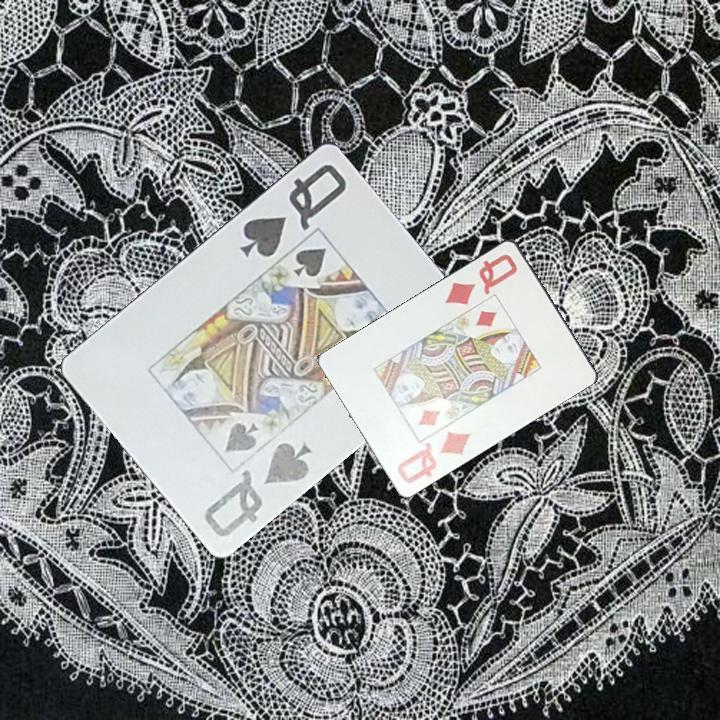Qd: (394, 427, 473, 486), (442, 250, 520, 308)
Qs: (200, 435, 315, 540), (235, 159, 350, 260)
